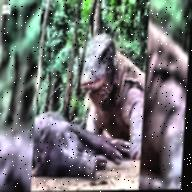boar: (27, 99, 122, 188)
